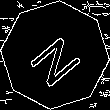N_NE: (23, 23, 87, 87)
